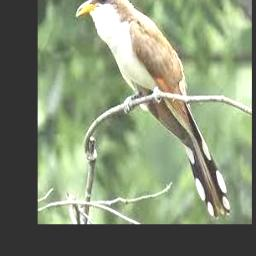Cuckoo: (77, 0, 231, 218)
